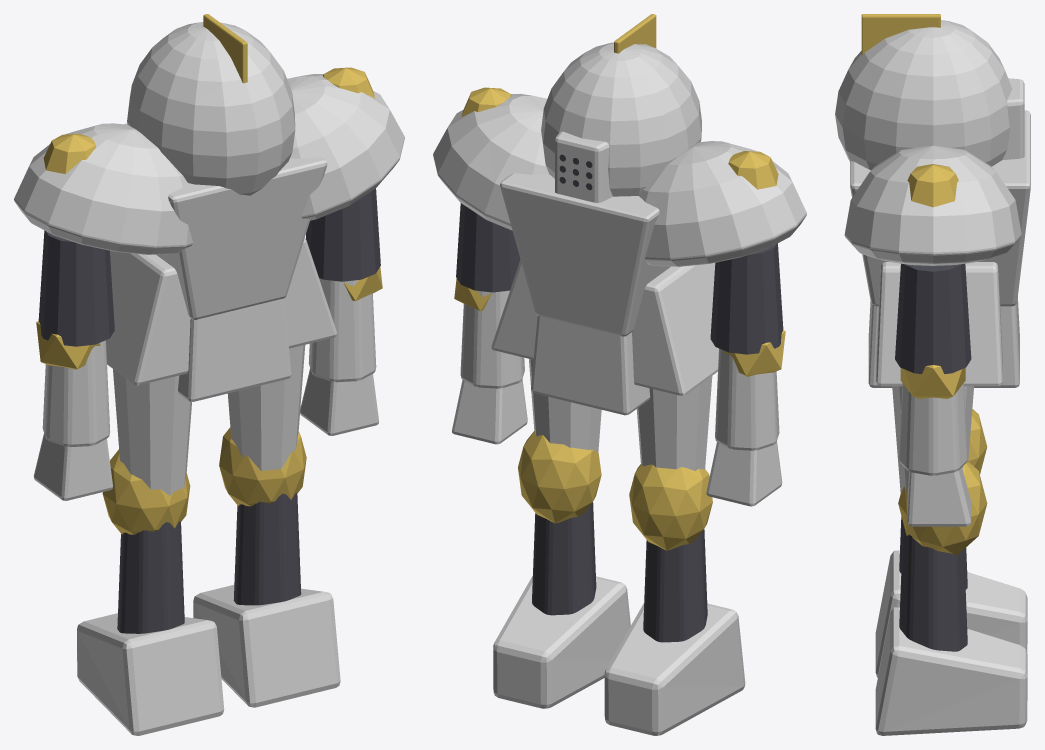
Rendered from Knight_V2.glb.
3 views of the same model, side by side, from view 1: azimuth 30°, elevation 25°; view 2: azimuth 150°, elevation 25°; view 3: azimuth 270°, elevation 25° (orthographic). The views are drawn at different scales.
Parts seen in each view (by area): view 1: Torso, Leg_lower_L, Leg_lower_R, Helmet, Shoulder_L, Shoulder_R, Arm_lower_L, Arm_lower_R, Leg_upper_L, Arm_upper_L, Leg_upper_R, Arm_upper_R; view 2: Torso, Leg_lower_L, Leg_lower_R, Helmet, Shoulder_L, Shoulder_R, Arm_lower_L, Arm_lower_R, Arm_upper_L, Leg_upper_L, Arm_upper_R, Leg_upper_R; view 3: Leg_lower_R, Helmet, Shoulder_R, Torso, Arm_lower_R, Arm_upper_R, Leg_lower_L, Leg_upper_R.
Part boxes in pixels (x1,y1,x2,y2): Torso: [106, 123, 337, 401]; Leg_lower_L: [77, 449, 224, 735]; Leg_lower_R: [193, 427, 340, 707]; Helmet: [127, 14, 295, 195]; Shoulder_L: [14, 123, 192, 254]; Shoulder_R: [287, 67, 404, 220]; Arm_lower_L: [33, 321, 112, 500]; Arm_lower_R: [300, 267, 382, 435]; Leg_upper_L: [113, 369, 191, 495]; Arm_upper_L: [38, 230, 114, 346]; Leg_upper_R: [228, 345, 305, 470]; Arm_upper_R: [306, 188, 380, 281]; Torso: [491, 173, 718, 415]; Leg_lower_L: [604, 464, 745, 735]; Leg_lower_R: [493, 431, 630, 708]; Helmet: [541, 14, 701, 202]; Shoulder_L: [639, 141, 806, 266]; Shoulder_R: [433, 87, 548, 230]; Arm_lower_L: [706, 330, 785, 506]; Arm_lower_R: [452, 278, 527, 444]; Arm_upper_L: [710, 243, 783, 354]; Leg_upper_L: [636, 376, 712, 470]; Arm_upper_R: [456, 203, 520, 292]; Leg_upper_R: [529, 359, 601, 452]; Leg_lower_R: [875, 462, 1027, 735]; Helmet: [835, 14, 1024, 169]; Shoulder_R: [844, 145, 1021, 265]; Torso: [850, 110, 1030, 387]; Arm_lower_R: [899, 365, 970, 526]; Arm_upper_R: [895, 263, 971, 374]; Leg_lower_L: [875, 409, 1027, 677]; Leg_upper_R: [892, 386, 973, 493].
Bounding box in the file's own units: 1.34 × 2.33 × 0.6149.
